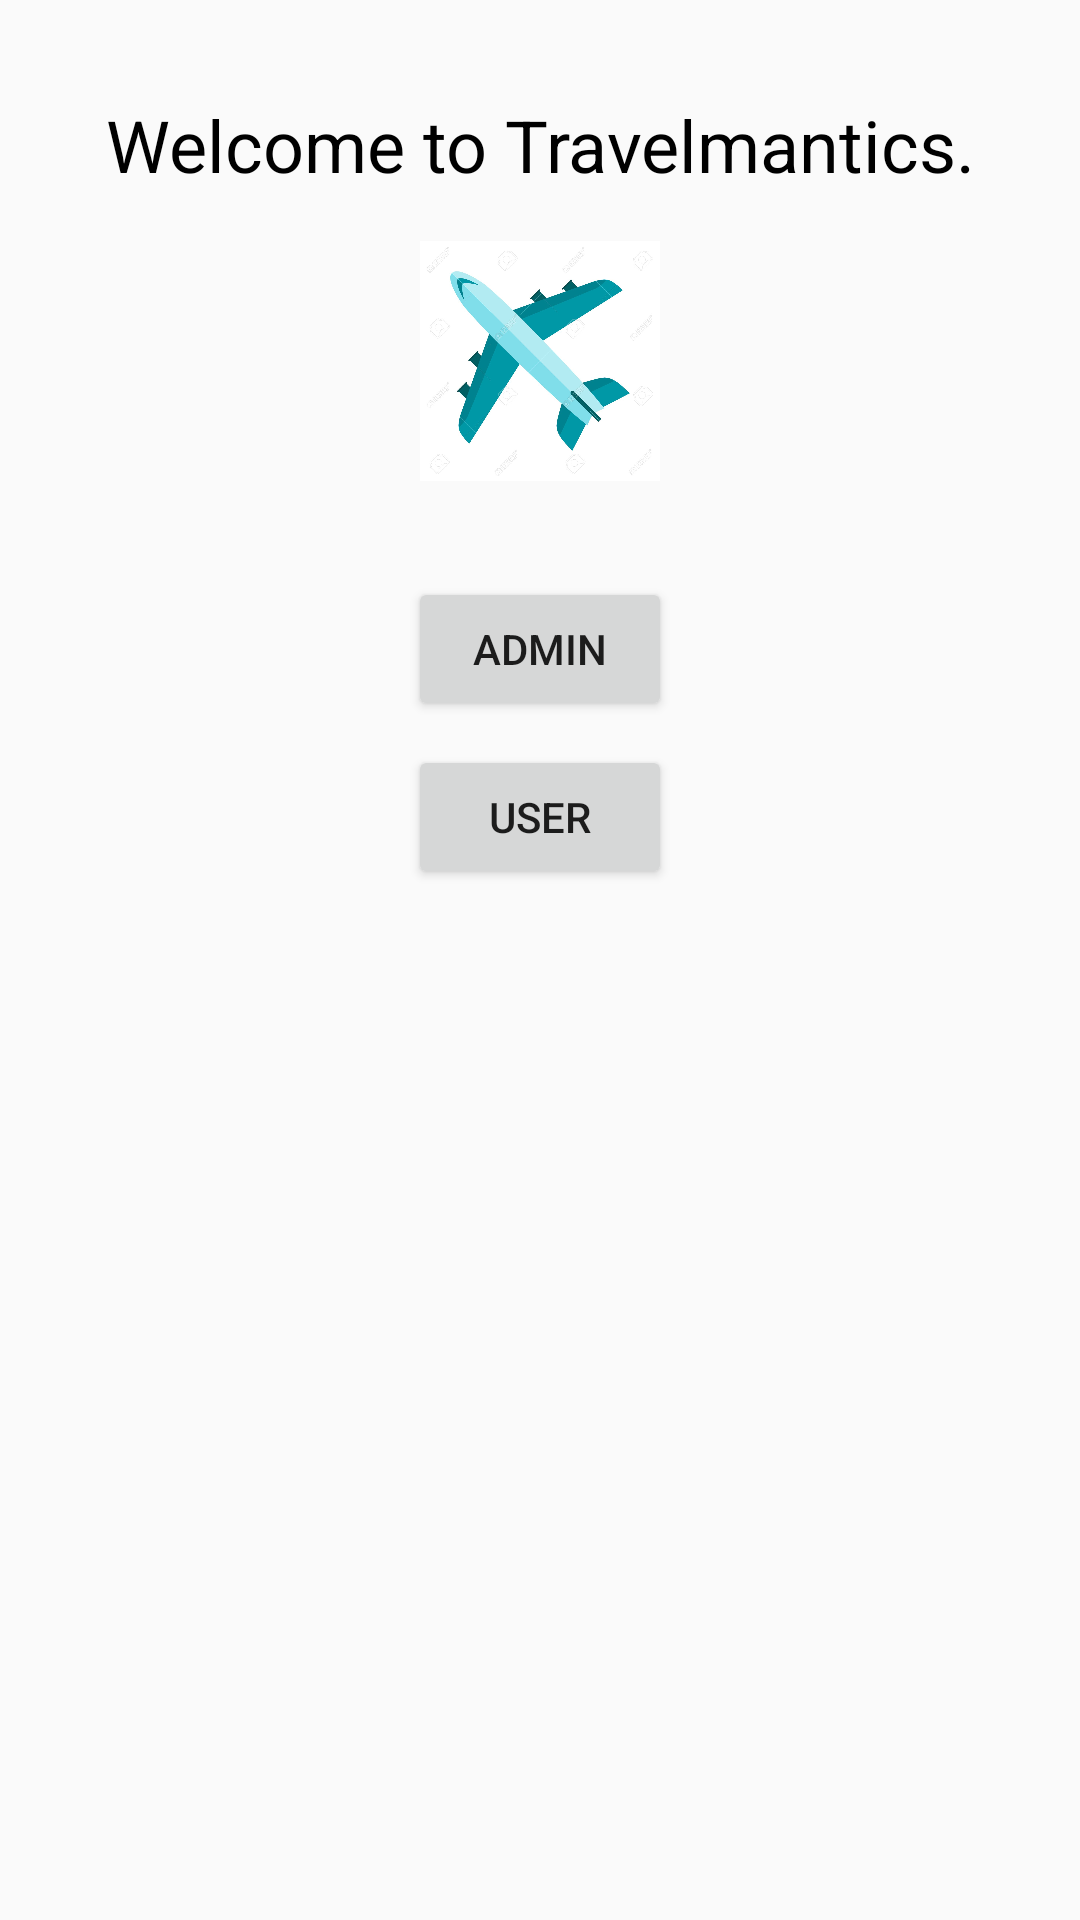

Locate icon controls on the screen. Image size 1080px×1920px, boxes as (x1, y1, x2, y2).
flight: (427, 247, 639, 467)
